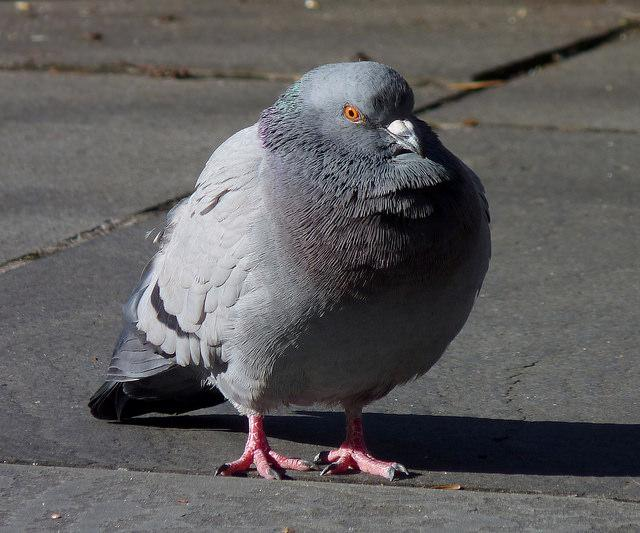Flying Rat: (69, 61, 485, 490)
